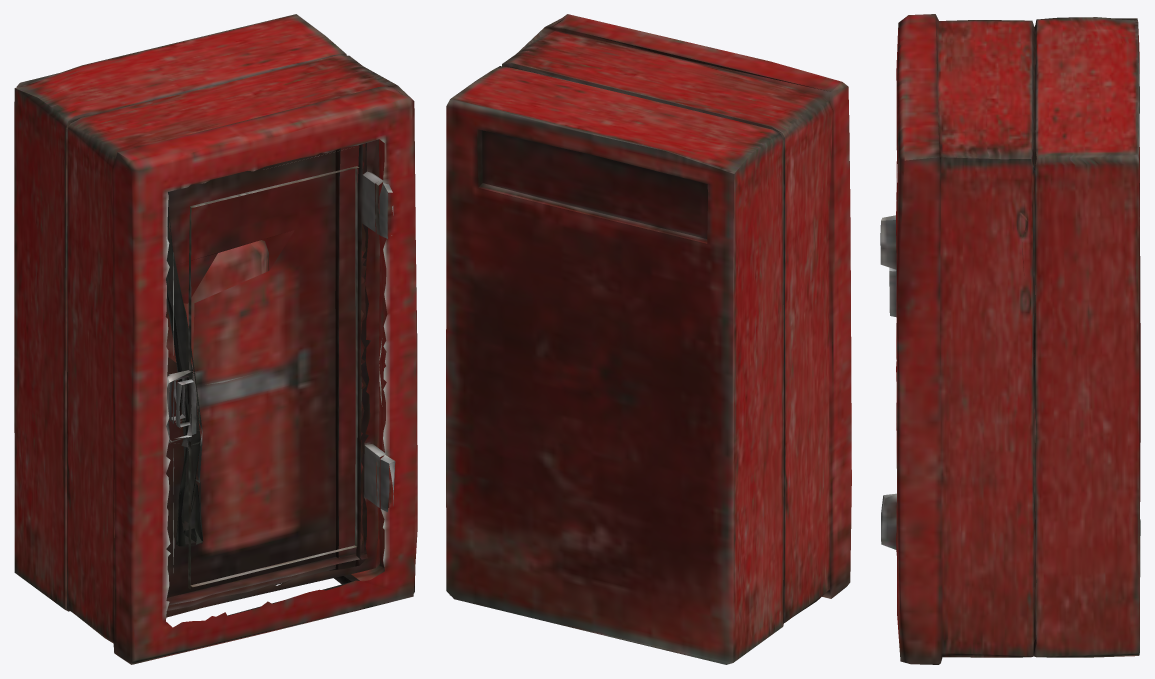
Rendered from p7-fire-extinguisher-cabinet.glb.
3 renders of one model, left to right at view 1: azimuth 30°, elevation 25°; view 2: azimuth 150°, elevation 25°; view 3: azimuth 270°, elevation 25°, orthographic.
Visible parts, largest first — view 1: p7-fire-extinguisher-cabinet; view 2: p7-fire-extinguisher-cabinet; view 3: p7-fire-extinguisher-cabinet.
Part boxes in pixels (box(x1,y1,x2,y2)): p7-fire-extinguisher-cabinet: box(14, 14, 417, 664); p7-fire-extinguisher-cabinet: box(446, 14, 851, 664); p7-fire-extinguisher-cabinet: box(880, 14, 1140, 664).
Size of the model in its own units: 0.45 by 0.75 by 0.3462.
1 material, 1 textured.
